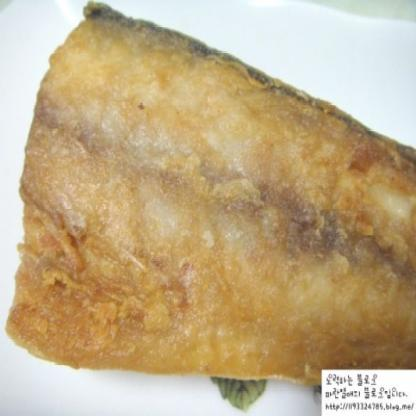Peixe: (16, 13, 416, 404)
